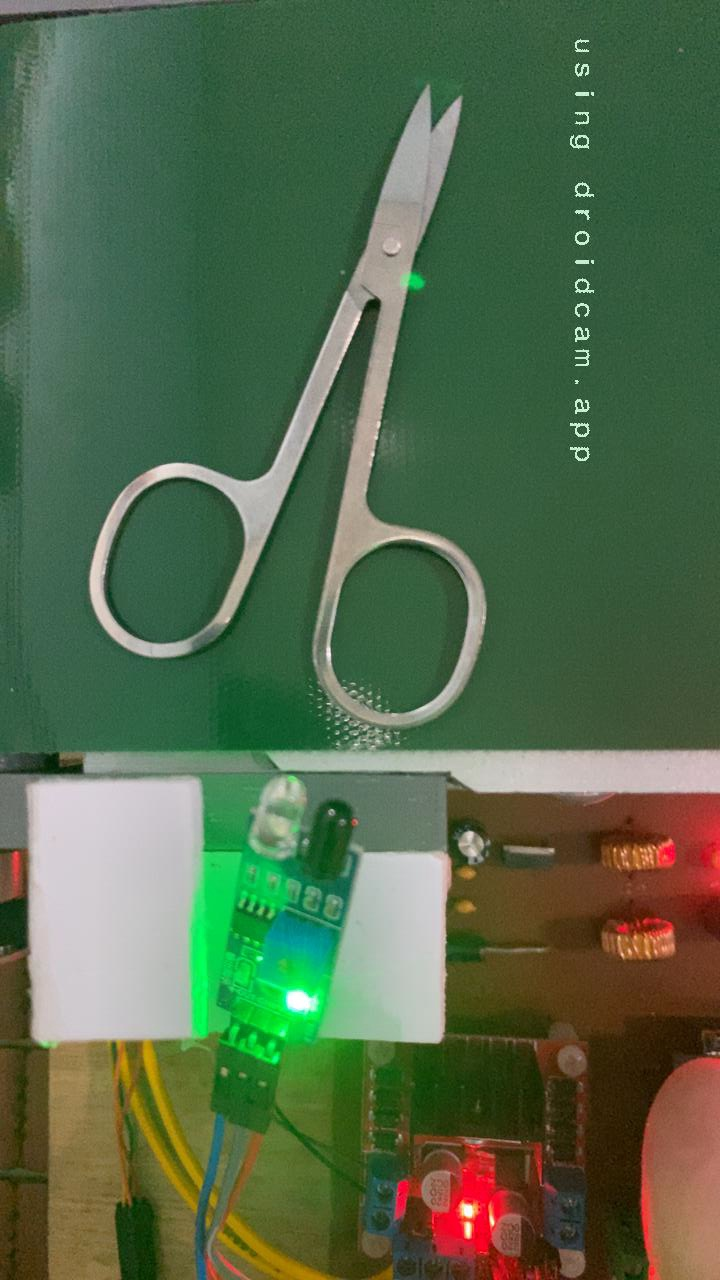scissor: (82, 81, 495, 733)
